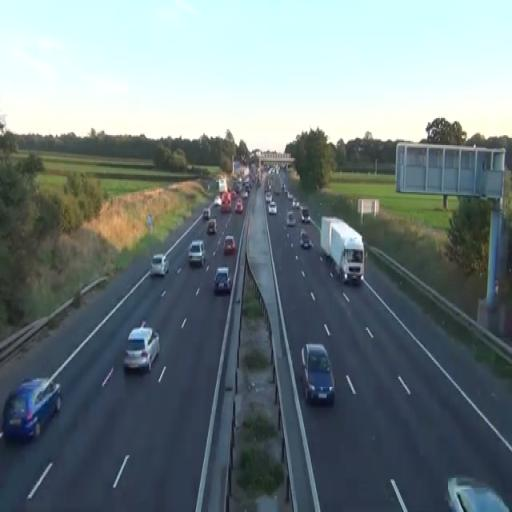Car: (2, 377, 62, 442), (446, 476, 510, 511), (301, 344, 335, 406), (123, 324, 160, 374), (213, 267, 232, 295), (187, 240, 206, 266), (150, 254, 170, 276), (223, 236, 237, 256), (206, 218, 217, 234), (300, 207, 310, 223)
Truck: (320, 216, 365, 286)
